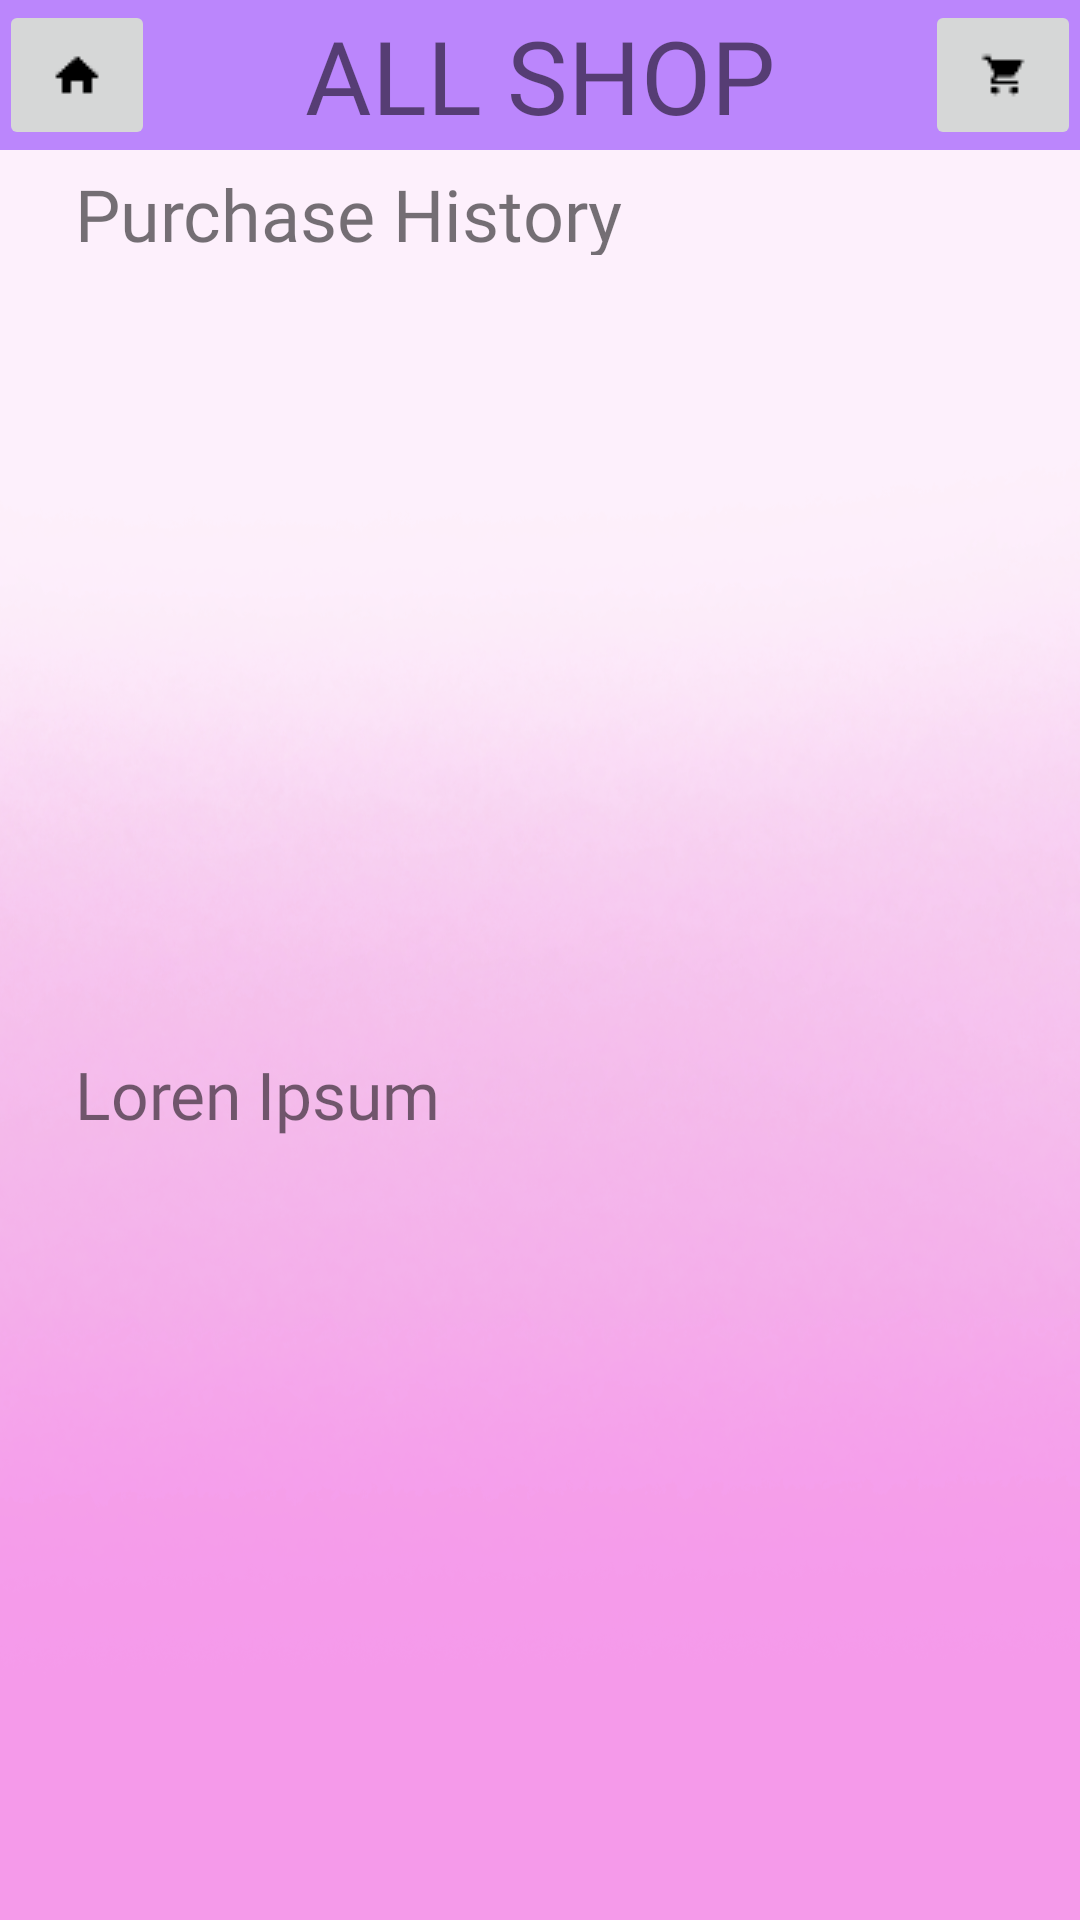

Where icons sit on this 1080*1920 app screen, as (x1, y1, x2, y2):
cart: (937, 18, 1069, 132)
home: (11, 18, 143, 132)
